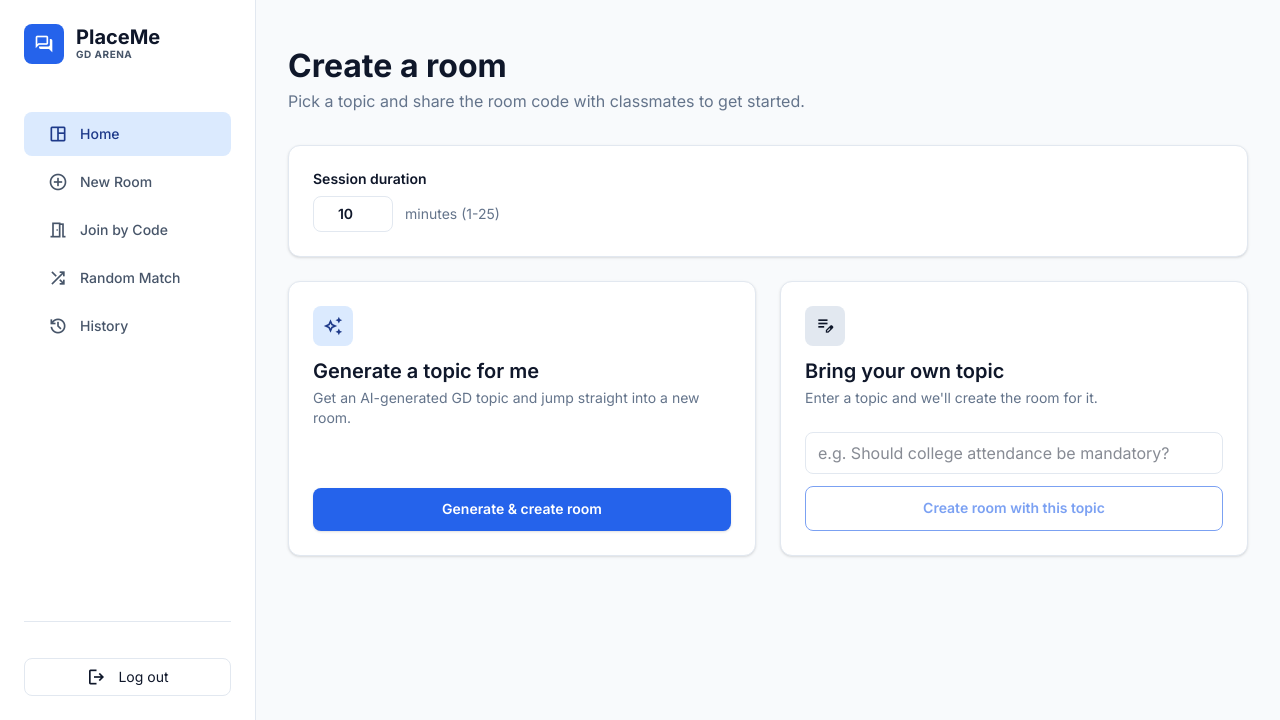
NewRoomPage busy state › shows a spinner and busy label on "Generate & create room" while generating
Click the button "Generate & create room" at (522, 510), box [313, 488, 731, 531]
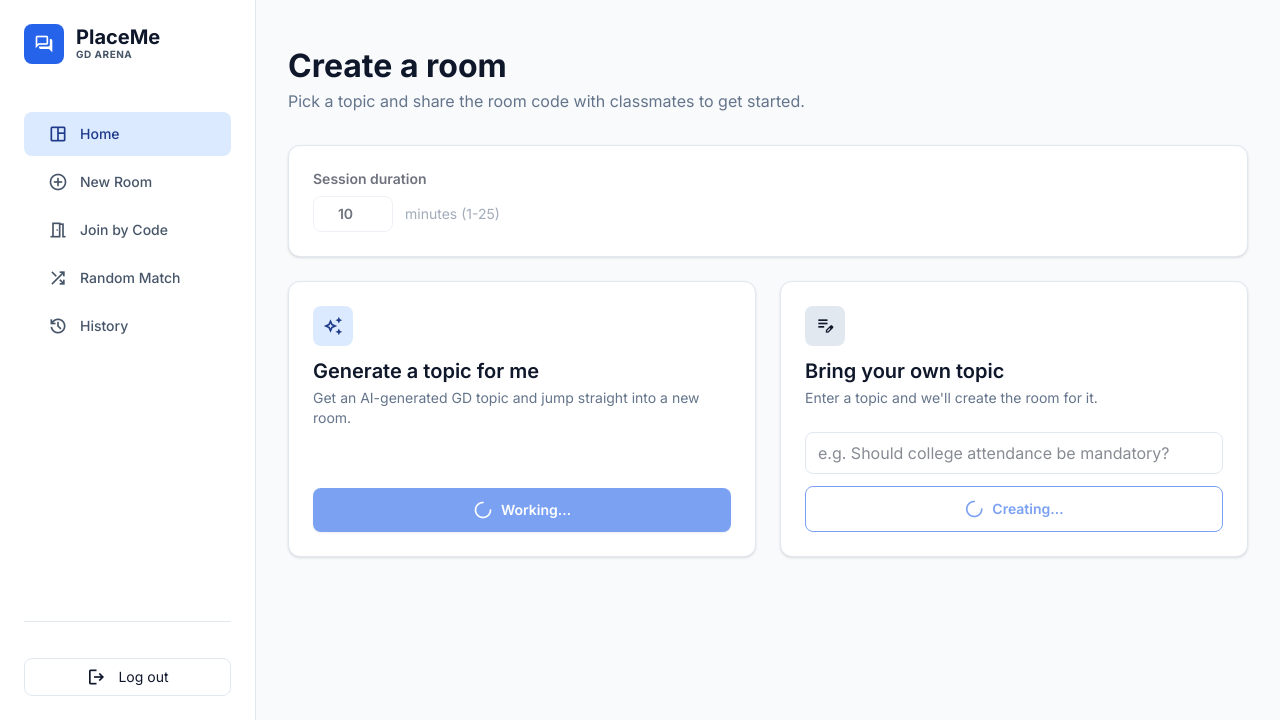
Now the text "Working…" is shown, box [473, 500, 571, 520]
Now the 9th text "progress_activity" is shown, box [473, 498, 493, 522]
